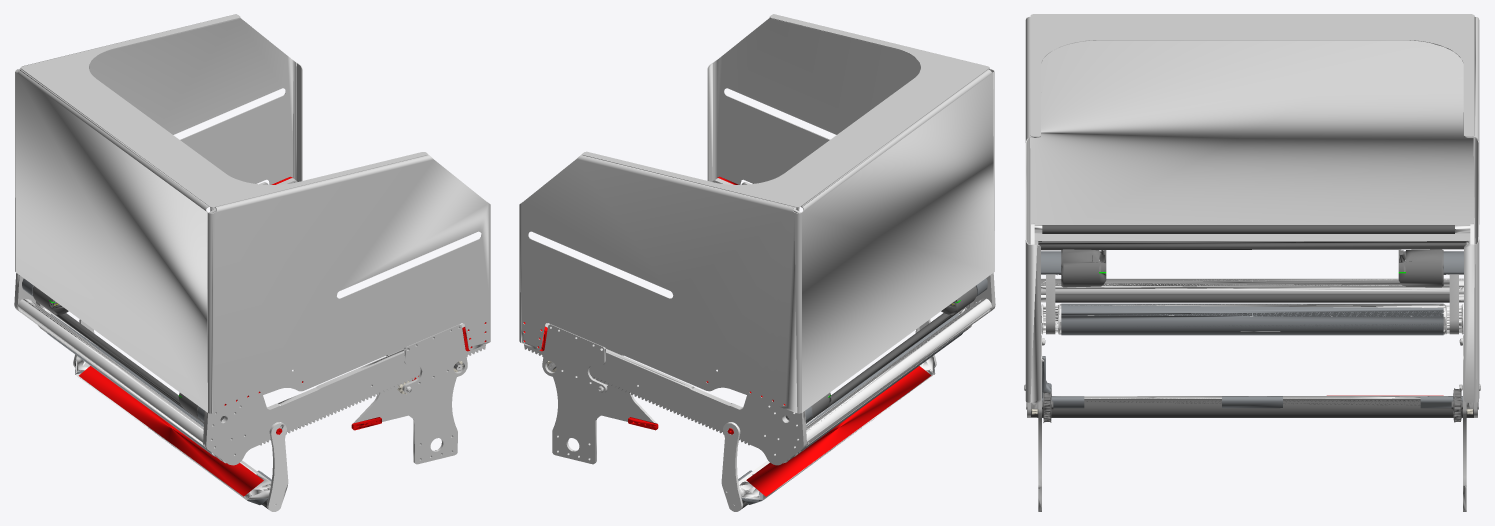
Rendered from simbot-tim-1114.glb.
3 views of the same model, side by side, from view 1: azimuth 30°, elevation 25°; view 2: azimuth 150°, elevation 25°; view 3: azimuth 270°, elevation 25° (orthographic). The views are drawn at different scales.
Visible parts, largest first — view 1: frame, intake; view 2: frame, intake; view 3: frame, intake.
Boxes of the visible parts, x1,y1,x2,y2 form: frame: (14,14,490,465); intake: (73,319,288,511); frame: (519,14,995,465); intake: (721,319,936,511); frame: (1024,14,1480,511); intake: (1027,395,1477,417).
Size of the model in its own units: 0.6286 by 0.6742 by 0.759.
